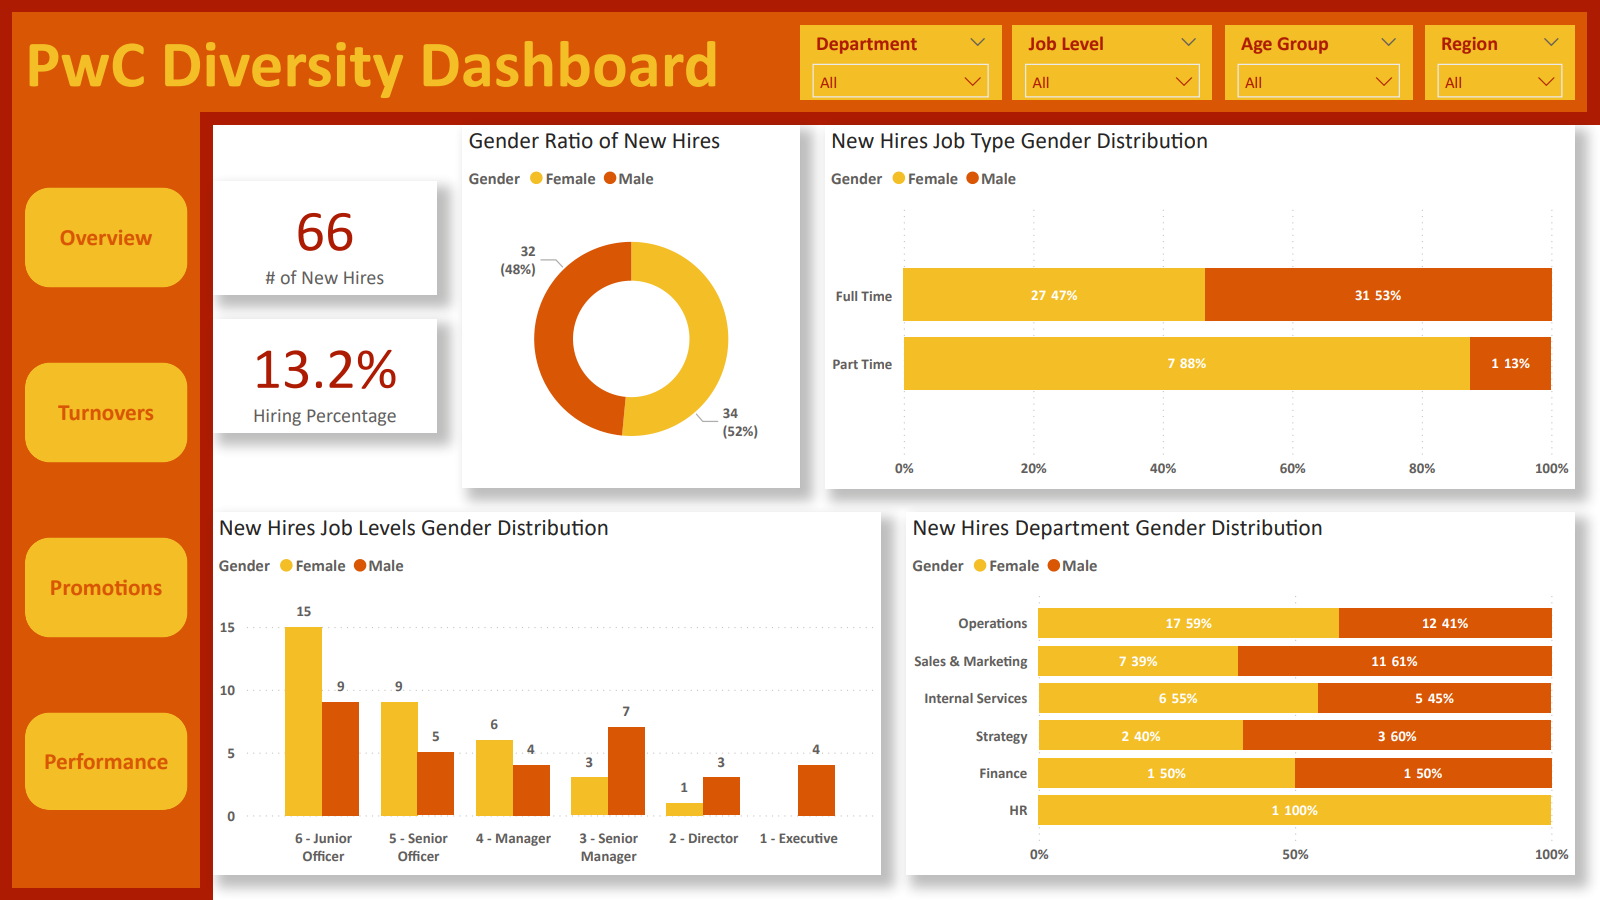

The dashboard page shown, as its layout file describes it:
{"tool":"powerbi","page":{"name":"Hires","canvas":[1280,720],"ordinal":1},"visuals":[{"type":"shape","box":[0,0,1280,100],"z":0},{"type":"shape","box":[10,10,1260,80],"z":1000},{"type":"slicer","fields":{"Values":["Pharma Group AG.Department @01.07.2020"]},"box":[640,20,160.5,60.4],"z":2000},{"type":"slicer","fields":{"Values":["Pharma Group AG.Job Level after FY20 promotions"]},"box":[810,20,160,60.4],"z":3000},{"type":"slicer","fields":{"Values":["Pharma Group AG.Age group"]},"box":[980,20,150,60.4],"z":4000},{"type":"slicer","fields":{"Values":["Pharma Group AG.Region group: nationality 1"]},"box":[1140,20,120,60.4],"z":5000},{"type":"shape","box":[0,99,170,621],"z":6000},{"type":"shape","box":[10,88,150,622],"z":7000},{"type":"actionButton","box":[20,150,130,80],"z":8000},{"type":"actionButton","box":[20,290,130,80],"z":9000},{"type":"actionButton","box":[20,430,130,80],"z":10000},{"type":"actionButton","box":[20,570,130,78],"z":11000},{"type":"card","fields":{"Values":["Pharma Group AG.Number of Hires"]},"box":[170,145,180,90.6],"z":12000},{"type":"donutChart","title":"Gender Ratio of New Hires","fields":{"Y":["Pharma Group AG.Gender New Hires"],"Series":["Pharma Group AG.Gender"]},"box":[370,100,270,290],"z":13000},{"type":"hundredPercentStackedBarChart","title":"New Hires Job Type Gender Distribution","fields":{"Series":["Pharma Group AG.Gender"],"Category":["Pharma Group AG.Time type"],"Y":["Pharma Group AG.Time Type Hires"]},"box":[660,100,600,290.9],"z":14000},{"type":"clusteredColumnChart","title":"New Hires Job Levels Gender Distribution","fields":{"Series":["Pharma Group AG.Gender"],"Y":["Pharma Group AG.Job Level Hires"],"Category":["Pharma Group AG.Job Level after FY20 promotions"]},"box":[170,410,535,290],"z":15000},{"type":"hundredPercentStackedBarChart","title":"New Hires Department Gender Distribution","fields":{"Category":["Pharma Group AG.Department @01.07.2020"],"Y":["Pharma Group AG.Department Hire"],"Series":["Pharma Group AG.Gender"]},"box":[725,410,535,290],"z":16000},{"type":"card","fields":{"Values":["Pharma Group AG.Percentage of Hires"]},"box":[170,255,180,90.6],"z":17000}]}

Visuals, with their boxes in screenshot pixels (x1, y1, x2, y2), scaled from the page's 1280x720 canvas onto the 1600x900 screenshot:
shape: bbox=[0, 0, 1599, 125]
shape: bbox=[12, 12, 1588, 112]
slicer - Pharma Group AG.Department @01.07.2020: bbox=[800, 25, 1001, 100]
slicer - Pharma Group AG.Job Level after FY20 promotions: bbox=[1012, 25, 1212, 100]
slicer - Pharma Group AG.Age group: bbox=[1225, 25, 1412, 100]
slicer - Pharma Group AG.Region group: nationality 1: bbox=[1425, 25, 1575, 100]
shape: bbox=[0, 124, 212, 899]
shape: bbox=[12, 110, 200, 888]
actionButton: bbox=[25, 188, 188, 288]
actionButton: bbox=[25, 362, 188, 462]
actionButton: bbox=[25, 538, 188, 638]
actionButton: bbox=[25, 712, 188, 810]
card - Pharma Group AG.Number of Hires: bbox=[212, 181, 438, 294]
"Gender Ratio of New Hires" donutChart: bbox=[462, 125, 800, 488]
"New Hires Job Type Gender Distribution" hundredPercentStackedBarChart: bbox=[825, 125, 1575, 489]
"New Hires Job Levels Gender Distribution" clusteredColumnChart: bbox=[212, 512, 881, 875]
"New Hires Department Gender Distribution" hundredPercentStackedBarChart: bbox=[906, 512, 1575, 875]
card - Pharma Group AG.Percentage of Hires: bbox=[212, 319, 438, 432]
